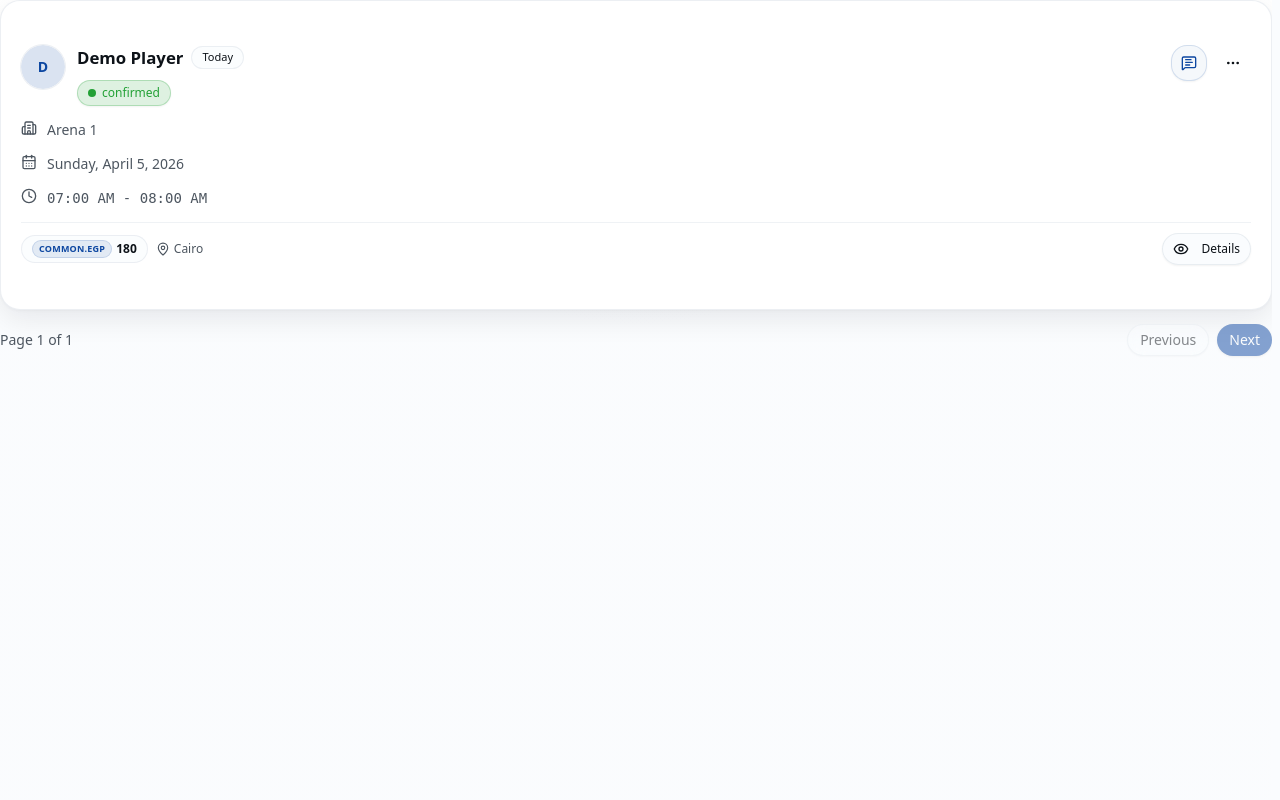
Test: BookingListView › shows an icon note trigger on booking cards that opens the full note
This screenshot has width=1280, height=800.
What coordinates should you click on to do the following:
click the button named "show player note"
I would click on:
 (1189, 63)
Its box is [1171,45,1207,81].
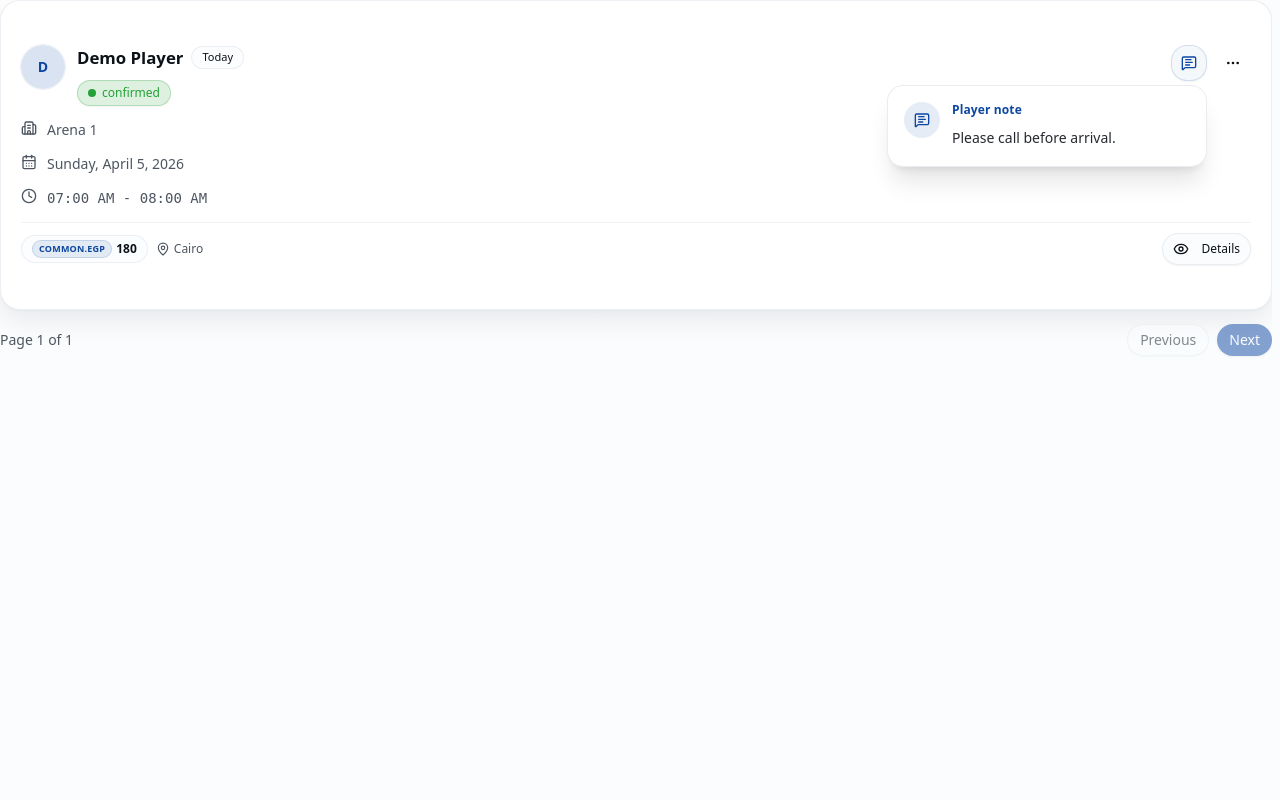
Expected: the text "Please call before arrival." is shown, [952,126,1116,150]
